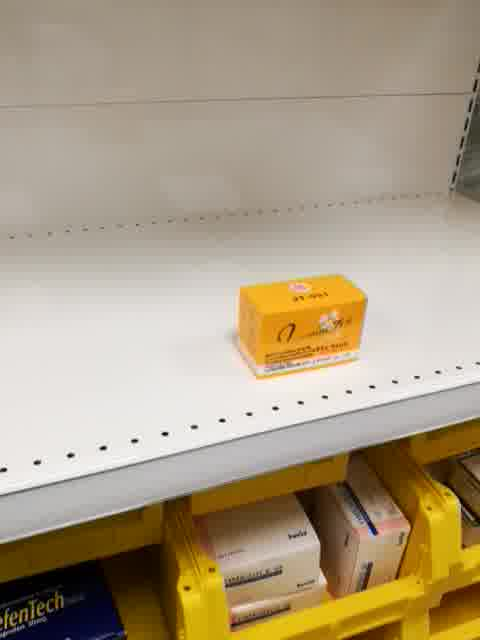jasminetea: (233, 272, 370, 381)
